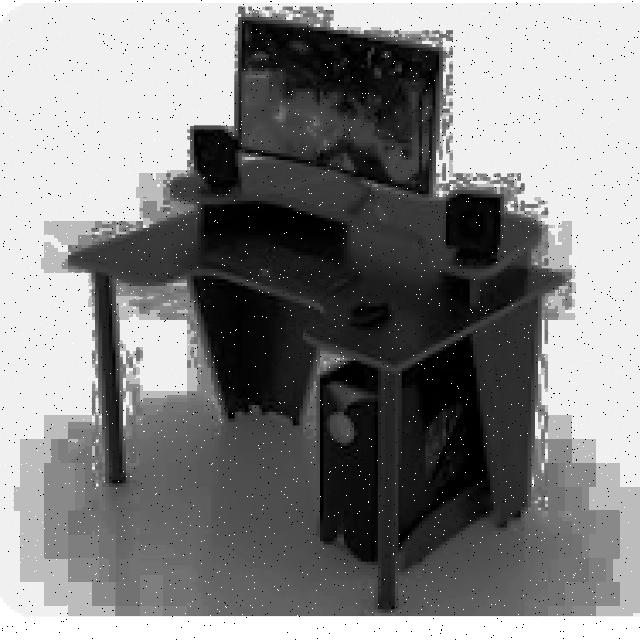table: (64, 156, 562, 610)
